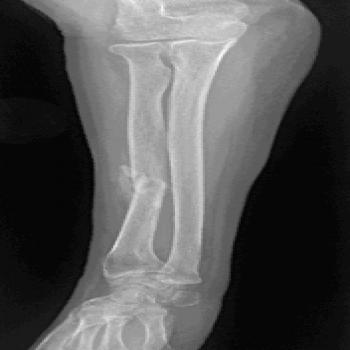Fracture: (105, 162, 172, 194)
